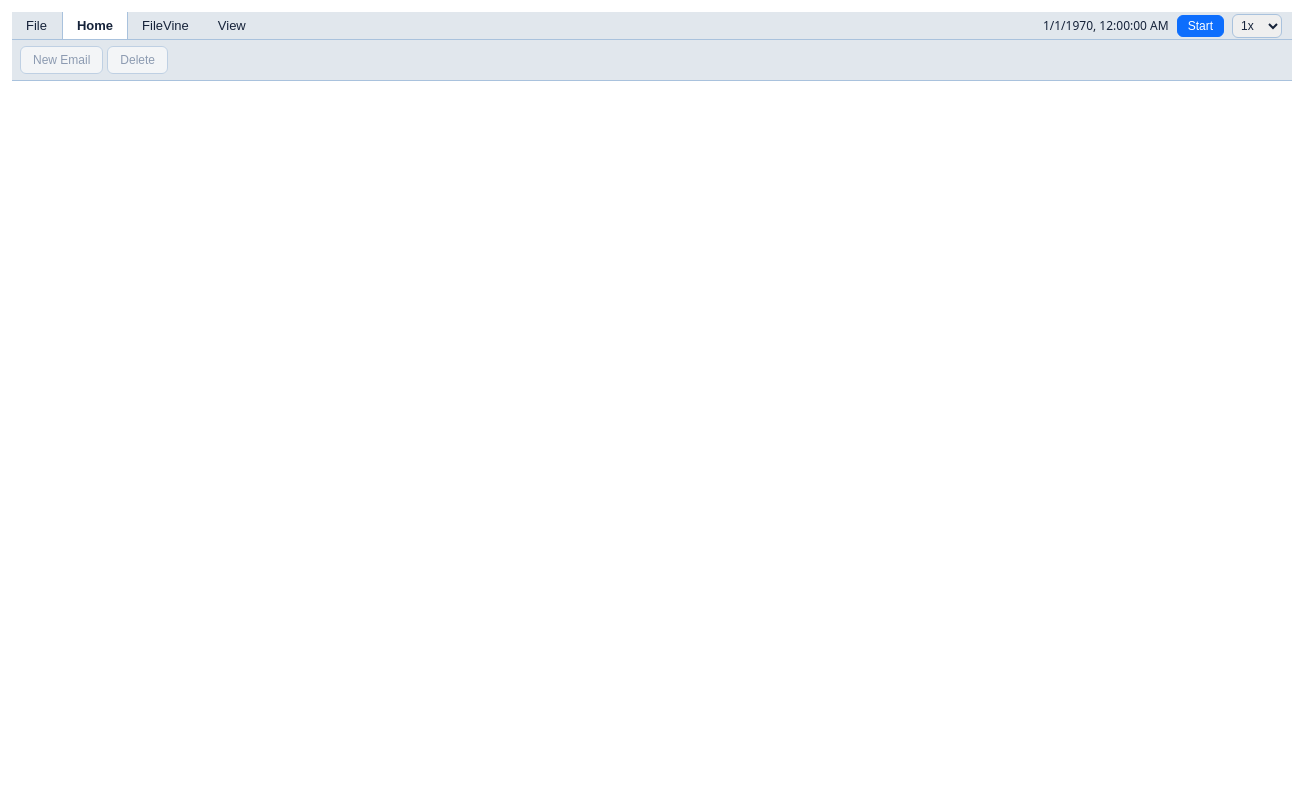
it: RibbonBar › File menu (034) › clicking outside the menu closes it
Click the button "File".
click(37, 26)  # box [12,12,62,39]
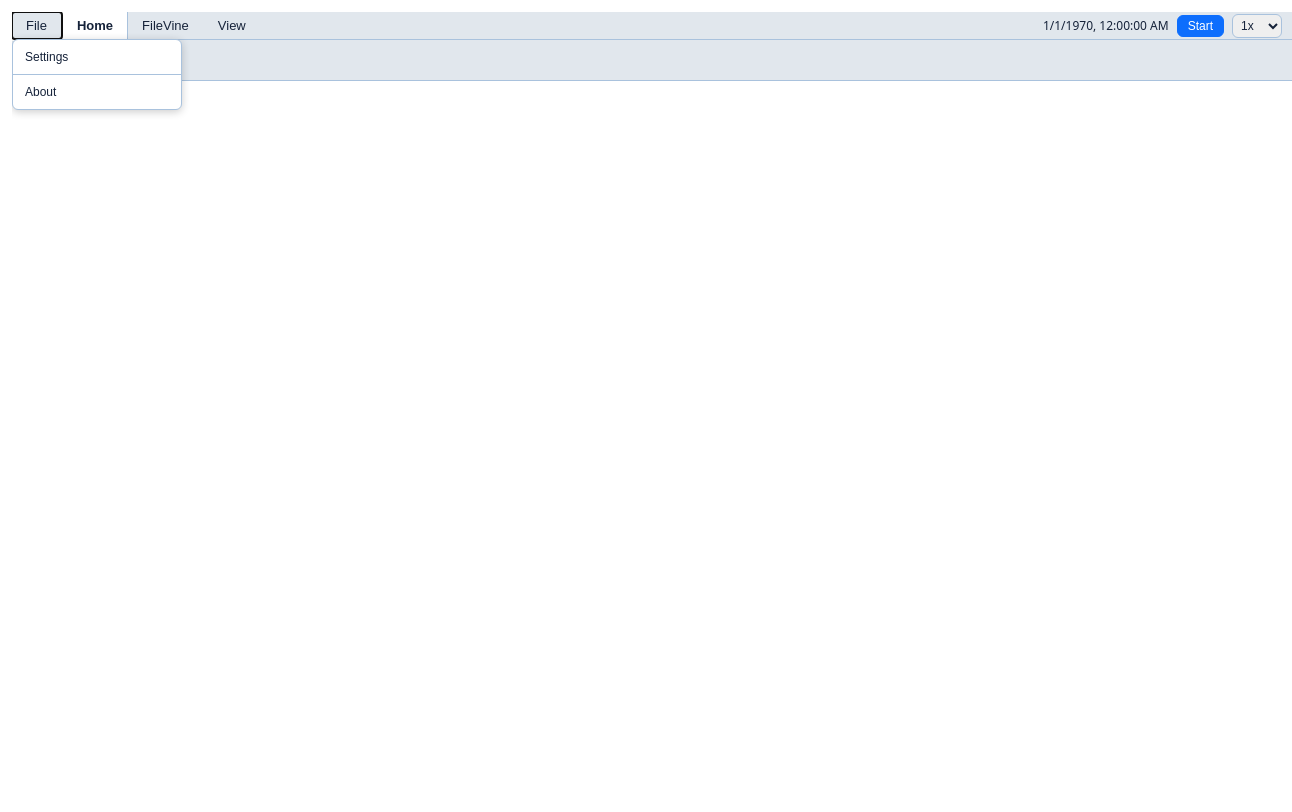
Expected: the menu is shown, [12,39,182,110]
Click the element that starts with "File".
click(652, 412)  # box [12,12,1291,811]
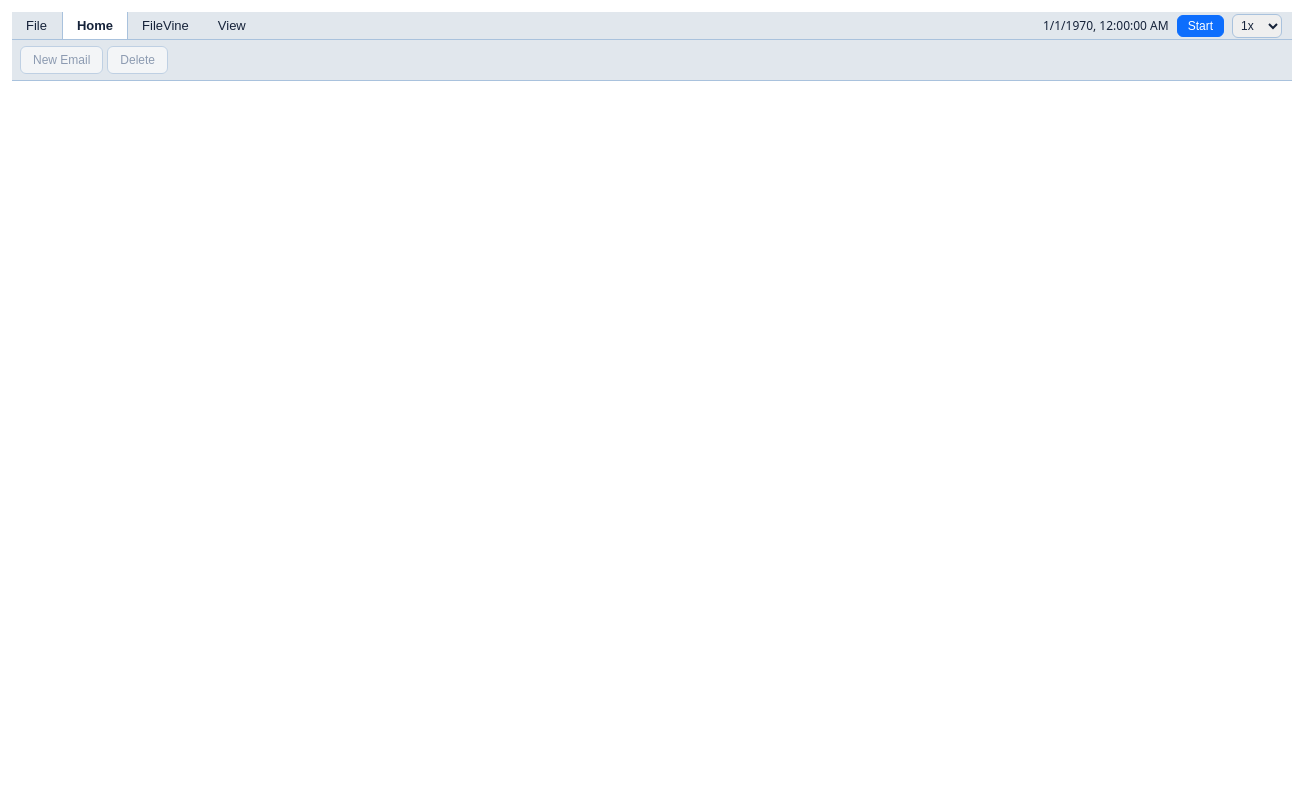
Expected: the menu is gone
